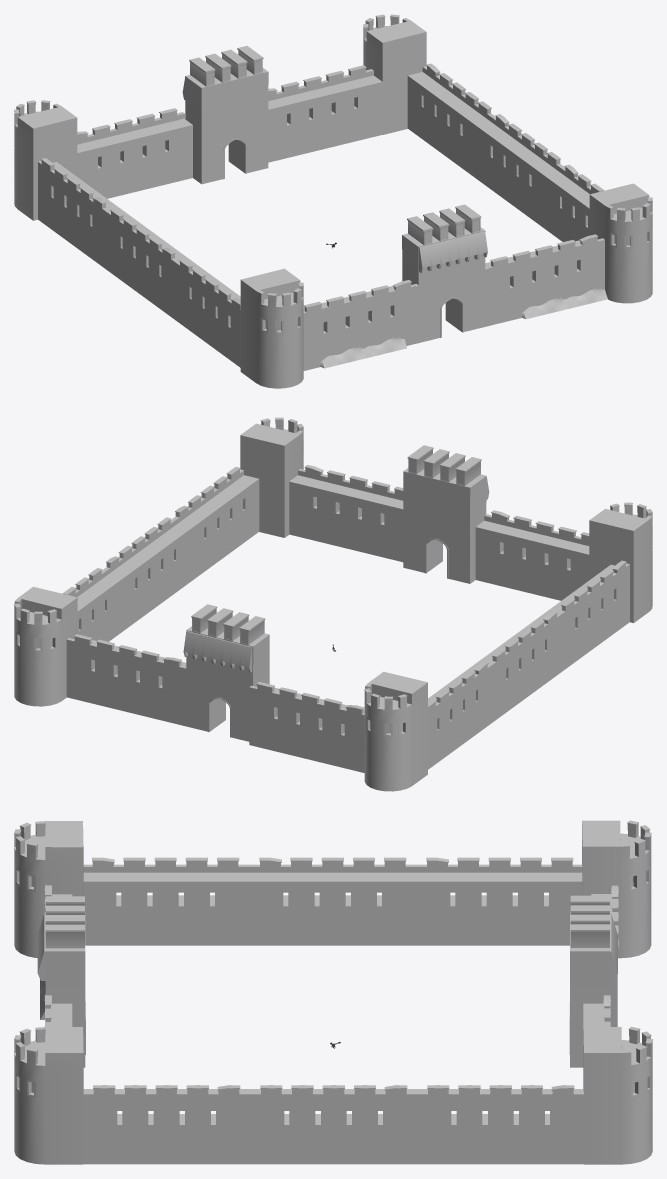
Rendered from castle 1.fbx.
3 renders of one model, top to bottom at view 1: azimuth 30°, elevation 25°; view 2: azimuth 150°, elevation 25°; view 3: azimuth 270°, elevation 25°, orthographic. The views are drawn at different scales.
Visible parts, largest first — view 1: Castle; view 2: Castle; view 3: Castle.
Boxes of the visible parts, x1,y1,x2,y2 form: Castle: [14, 14, 652, 388]; Castle: [14, 417, 652, 791]; Castle: [14, 820, 652, 1164].
Size of the model in its own units: 21582 by 5842 by 25031.
